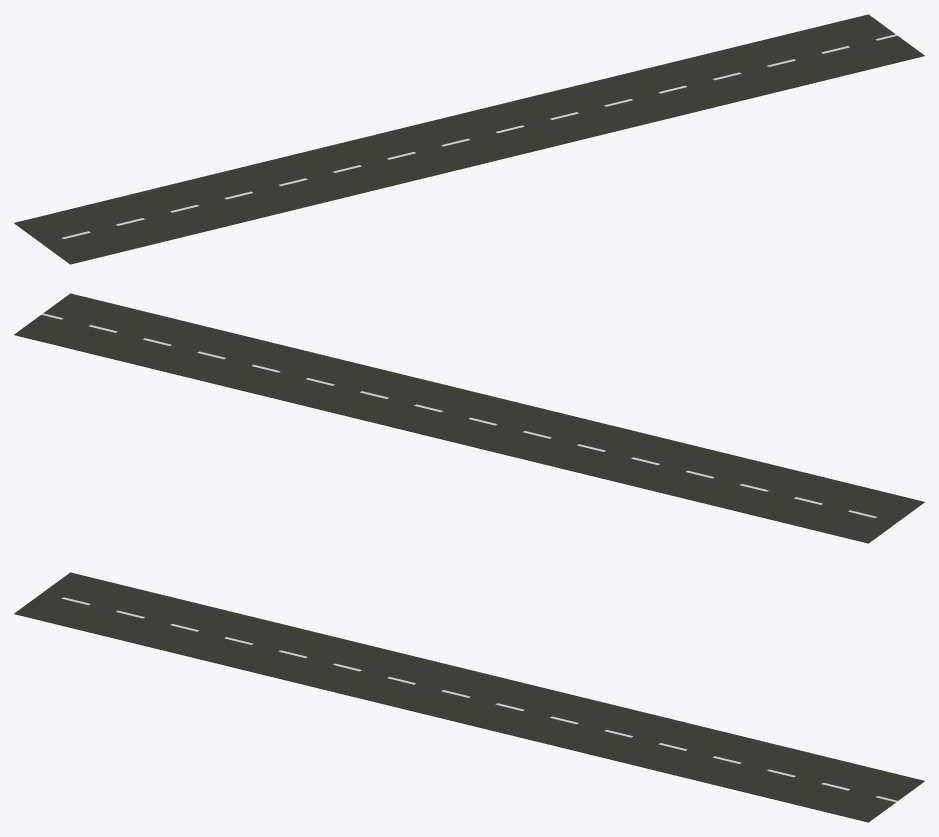
File: RoadS.fbx
The picture shows the model from 3 angles, top to bottom: view 1: azimuth 30°, elevation 25°; view 2: azimuth 150°, elevation 25°; view 3: azimuth 330°, elevation 25°; orthographic projection.
Parts seen in each view (by area): view 1: Road_S; view 2: Road_S; view 3: Road_S.
Boxes of the visible parts, x1,y1,x2,y2 form: Road_S: [14, 14, 924, 264]; Road_S: [14, 293, 924, 543]; Road_S: [14, 572, 924, 822].
Bounding box in the file's own units: 10500 × 5 × 1200.
